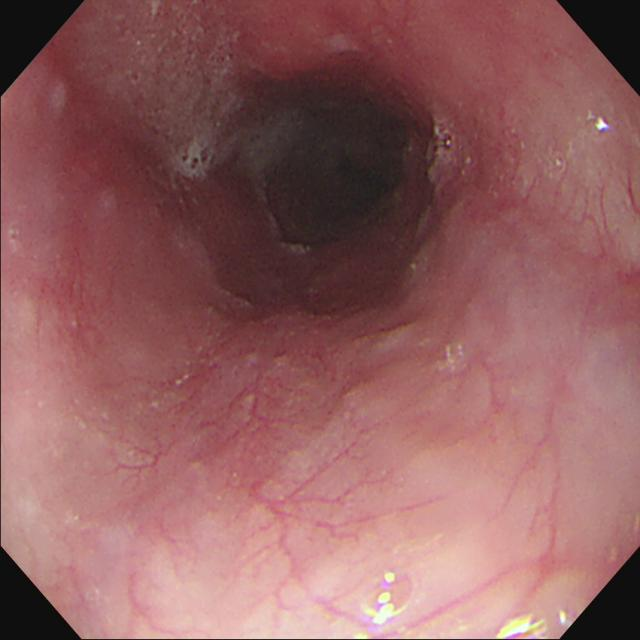E: (266, 109, 406, 248)
T: (85, 2, 236, 181)
